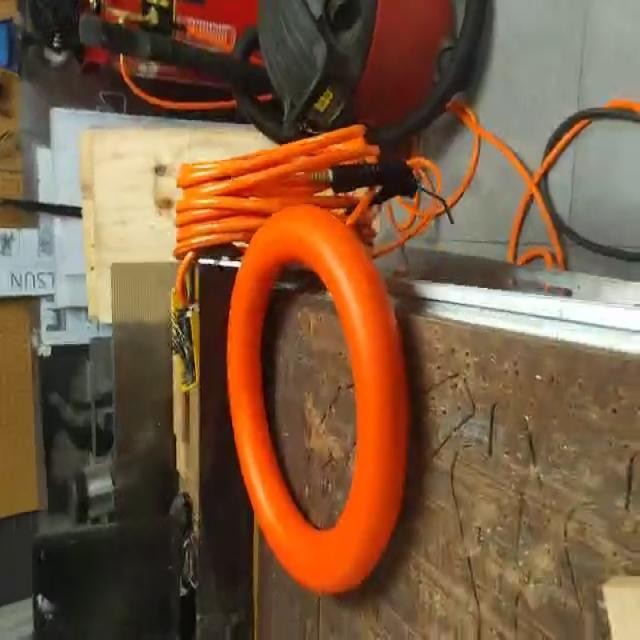note: (224, 210, 411, 600)
